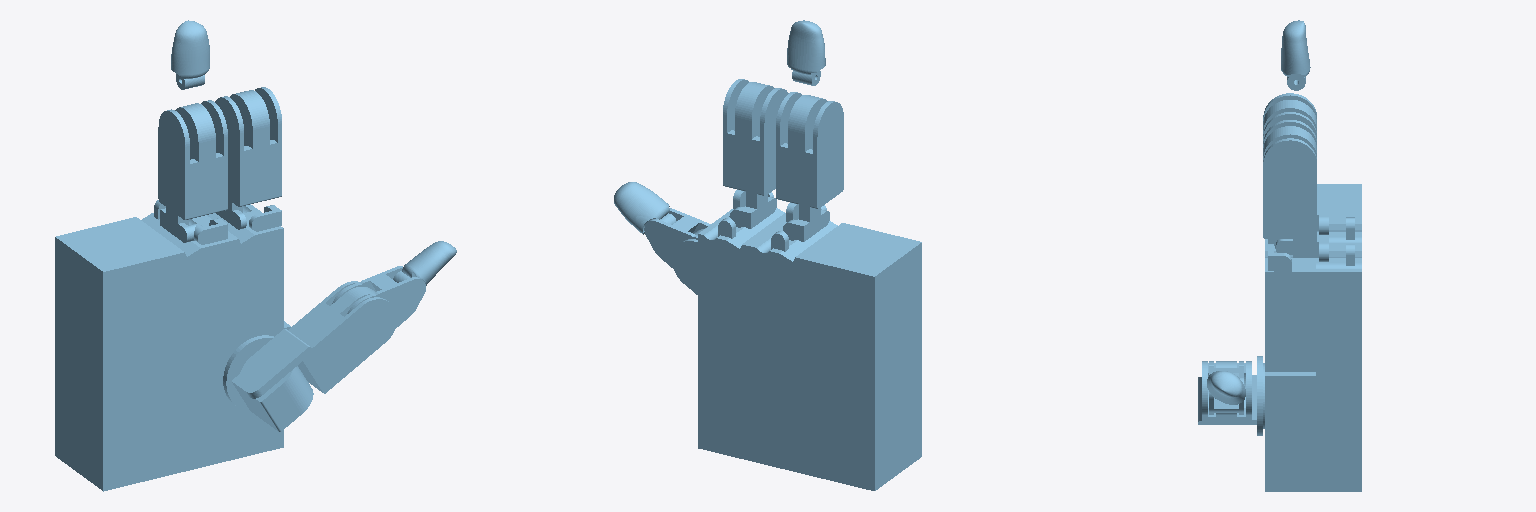
The robot description file, URDF, robot "urdf":
<?xml version="1.0" ?>
<!-- Generated using onshape-to-robot -->
<!-- Onshape https://cad.onshape.com/documents/c4a331975ceab76e0154d26e/w/8313aa8a760c81e1d8a5ecf2/e/5863435791bcbea3db96a3b3 -->
<robot name="urdf">
  <!-- Link base_link -->
  <link name="base_link">
    <inertial>
      <origin xyz="0.021259 0.00162789 0.06324" rpy="0 0 0"/>
      <mass value="0.477"/>
      <inertia ixx="0.000319567" ixy="3.609e-05" ixz="3.5241e-05" iyy="0.000400699" iyz="1.0929e-05" izz="0.000240603"/>
    </inertial>
    <!-- Part base_link -->
    <visual>
      <origin xyz="0.00375 -0.0205 0.0142" rpy="0 -0 0"/>
      <geometry>
        <mesh filename="package://assets/base_link.stl"/>
      </geometry>
      <material name="base_link_material">
        <color rgba="0.615686 0.811765 0.929412 1"/>
      </material>
    </visual>
    <collision>
      <origin xyz="0.00375 -0.0205 0.0142" rpy="0 -0 0"/>
      <geometry>
        <mesh filename="package://assets/base_link.stl"/>
      </geometry>
    </collision>
  </link>
  <!-- Link link_0_0 -->
  <link name="link_0_0">
    <inertial>
      <origin xyz="-0.001543 -0.002416 0.014255" rpy="0 0 0"/>
      <mass value="0.082"/>
      <inertia ixx="2.72479e-05" ixy="-6.7033e-07" ixz="-1.34272e-06" iyy="2.88476e-05" iyz="3.47887e-06" izz="1.22001e-05"/>
    </inertial>
    <!-- Part link_0_0 -->
    <visual>
      <origin xyz="6.93889e-18 6.93889e-18 4.2928e-19" rpy="-3.14159 1.09747e-16 -2.02138e-17"/>
      <geometry>
        <mesh filename="package://assets/link_0_0.stl"/>
      </geometry>
      <material name="link_0_0_material">
        <color rgba="0.615686 0.811765 0.929412 1"/>
      </material>
    </visual>
    <collision>
      <origin xyz="6.93889e-18 6.93889e-18 4.2928e-19" rpy="-3.14159 1.09747e-16 -2.02138e-17"/>
      <geometry>
        <mesh filename="package://assets/link_0_0.stl"/>
      </geometry>
    </collision>
  </link>
  <!-- Link link_0_1 -->
  <link name="link_0_1">
    <inertial>
      <origin xyz="0.029118 7.5e-05 0.007427" rpy="0 0 0"/>
      <mass value="0.106"/>
      <inertia ixx="1.70346e-05" ixy="2.21067e-07" ixz="3.1805e-05" iyy="0.000140661" iyz="2.25e-09" izz="0.00013189"/>
    </inertial>
    <!-- Part link_0_1 -->
    <visual>
      <origin xyz="6.93889e-18 1.40521e-18 -0.0005" rpy="2.77379e-16 -1.48742e-16 1.01073e-30"/>
      <geometry>
        <mesh filename="package://assets/link_0_1.stl"/>
      </geometry>
      <material name="link_0_1_material">
        <color rgba="0.615686 0.811765 0.929412 1"/>
      </material>
    </visual>
    <collision>
      <origin xyz="6.93889e-18 1.40521e-18 -0.0005" rpy="2.77379e-16 -1.48742e-16 1.01073e-30"/>
      <geometry>
        <mesh filename="package://assets/link_0_1.stl"/>
      </geometry>
    </collision>
  </link>
  <!-- Link link_0_2 -->
  <link name="link_0_2">
    <inertial>
      <origin xyz="-0.00218994 -0.012054 0.00878537" rpy="0 0 0"/>
      <mass value="0.028"/>
      <inertia ixx="1.07246e-05" ixy="-3.76439e-07" ixz="-5.19e-07" iyy="4.51348e-06" iyz="2.855e-06" izz="8.608e-06"/>
    </inertial>
    <!-- Part link_0_2 -->
    <visual>
      <origin xyz="2.42861e-17 6.93889e-17 1.35445e-17" rpy="-3.14159 4.94452e-16 -1.99276e-17"/>
      <geometry>
        <mesh filename="package://assets/link_0_2.stl"/>
      </geometry>
      <material name="link_0_2_material">
        <color rgba="0.615686 0.811765 0.929412 1"/>
      </material>
    </visual>
    <collision>
      <origin xyz="2.42861e-17 6.93889e-17 1.35445e-17" rpy="-3.14159 4.94452e-16 -1.99276e-17"/>
      <geometry>
        <mesh filename="package://assets/link_0_2.stl"/>
      </geometry>
    </collision>
  </link>
  <!-- Link link_0_3 -->
  <link name="link_0_3">
    <inertial>
      <origin xyz="0.000326766 0.0123531 0.00586309" rpy="0 0 0"/>
      <mass value="0.00560575"/>
      <inertia ixx="4.21922e-07" ixy="-4.55982e-09" ixz="2.43902e-08" iyy="1.56867e-07" iyz="-2.7172e-09" izz="3.96964e-07"/>
    </inertial>
    <!-- Part link_0_3 -->
    <visual>
      <origin xyz="0 -2.77556e-17 0.005675" rpy="1.5708 -1.0472 -3.14159"/>
      <geometry>
        <mesh filename="package://assets/link_0_3.stl"/>
      </geometry>
      <material name="link_0_3_material">
        <color rgba="0.615686 0.811765 0.929412 1"/>
      </material>
    </visual>
    <collision>
      <origin xyz="0 -2.77556e-17 0.005675" rpy="1.5708 -1.0472 -3.14159"/>
      <geometry>
        <mesh filename="package://assets/link_0_3.stl"/>
      </geometry>
    </collision>
  </link>
  <!-- Joint from link_0_2 to link_0_3 -->
  <joint name="l02_l03" type="revolute">
    <origin xyz="-0.00286105 -0.0259416 0.0138" rpy="3.14159 -3.61383e-16 -1.99276e-17"/>
    <parent link="link_0_2"/>
    <child link="link_0_3"/>
    <axis xyz="0 0 1"/>
    <limit effort="0.294" velocity="3.03" lower="-1.12574" upper="0.314159"/>
  </joint>
  <!-- Joint from link_0_1 to link_0_2 -->
  <joint name="l01_l02" type="revolute">
    <origin xyz="0.0525 -0.007975 0.01" rpy="-1.5708 1.5708 0"/>
    <parent link="link_0_1"/>
    <child link="link_0_2"/>
    <axis xyz="0 0 1"/>
    <limit effort="0.63" velocity="3.99" lower="-0.122173" upper="1.5708"/>
  </joint>
  <!-- Joint from link_0_0 to link_0_1 -->
  <joint name="l00_l01" type="revolute">
    <origin xyz="0 -0.0089 0.0168" rpy="1.5708 4.15415e-15 -3.14159"/>
    <parent link="link_0_0"/>
    <child link="link_0_1"/>
    <axis xyz="0 0 1"/>
    <limit effort="0.84" velocity="3.9" lower="0" upper="0.872665"/>
  </joint>
  <!-- Joint from base_link to link_0_0 -->
  <joint name="base_l00" type="revolute">
    <origin xyz="0.03375 -0.0235 0.0422" rpy="-1.5708 0.523599 3.14159"/>
    <parent link="base_link"/>
    <child link="link_0_0"/>
    <axis xyz="0 0 1"/>
    <limit effort="1.2" velocity="14.4" lower="-0" upper="1.0472"/>
  </joint>
  <!-- Link link_1_0 -->
  <link name="link_1_0">
    <inertial>
      <origin xyz="-0.000569061 1.39263e-09 -0.00382169" rpy="0 0 0"/>
      <mass value="0.000444156"/>
      <inertia ixx="3.63064e-09" ixy="3.51984e-14" ixz="-2.89127e-10" iyy="3.99893e-09" iyz="3.15095e-14" izz="3.51668e-09"/>
    </inertial>
    <!-- Part link_1_0 -->
    <visual>
      <origin xyz="6.93889e-18 -1.38778e-17 -0.0045" rpy="-1.5708 -0 -8.48597e-32"/>
      <geometry>
        <mesh filename="package://assets/link_1_0.stl"/>
      </geometry>
      <material name="link_1_0_material">
        <color rgba="0.615686 0.811765 0.929412 1"/>
      </material>
    </visual>
    <collision>
      <origin xyz="6.93889e-18 -1.38778e-17 -0.0045" rpy="-1.5708 -0 -8.48597e-32"/>
      <geometry>
        <mesh filename="package://assets/link_1_0.stl"/>
      </geometry>
    </collision>
  </link>
  <!-- Link link_1_1 -->
  <link name="link_1_1">
    <inertial>
      <origin xyz="0.02282 -0.005828 0.003515" rpy="0 0 0"/>
      <mass value="0.122"/>
      <inertia ixx="2.1124e-05" ixy="8.513e-06" ixz="1.192e-05" iyy="0.000117779" iyz="1.857e-06" izz="0.000126497"/>
    </inertial>
    <!-- Part link_1_1 -->
    <visual>
      <origin xyz="0 -8.84082e-19 0" rpy="7.41426e-17 -4.30211e-16 0"/>
      <geometry>
        <mesh filename="package://assets/link_1_1.stl"/>
      </geometry>
      <material name="link_1_1_material">
        <color rgba="0.615686 0.811765 0.929412 1"/>
      </material>
    </visual>
    <collision>
      <origin xyz="0 -8.84082e-19 0" rpy="7.41426e-17 -4.30211e-16 0"/>
      <geometry>
        <mesh filename="package://assets/link_1_1.stl"/>
      </geometry>
    </collision>
  </link>
  <!-- Link link_2_2 -->
  <link name="link_2_2">
    <inertial>
      <origin xyz="-0.00218994 -0.0120538 0.00878537" rpy="0 0 0"/>
      <mass value="0.028"/>
      <inertia ixx="1.07246e-05" ixy="-1.082e-06" ixz="-5.19e-07" iyy="4.51348e-06" iyz="2.855e-06" izz="8.608e-06"/>
    </inertial>
    <!-- Part link_2_2 -->
    <visual>
      <origin xyz="4.27361e-20 5.55112e-17 1.38778e-17" rpy="-3.14159 4.94452e-16 0"/>
      <geometry>
        <mesh filename="package://assets/link_2_2.stl"/>
      </geometry>
      <material name="link_2_2_material">
        <color rgba="0.615686 0.811765 0.929412 1"/>
      </material>
    </visual>
    <collision>
      <origin xyz="4.27361e-20 5.55112e-17 1.38778e-17" rpy="-3.14159 4.94452e-16 0"/>
      <geometry>
        <mesh filename="package://assets/link_2_2.stl"/>
      </geometry>
    </collision>
  </link>
  <!-- Link link_1_3 -->
  <link name="link_1_3">
    <inertial>
      <origin xyz="0.000385337 0.0124193 0.0056766" rpy="0 0 0"/>
      <mass value="0.00555944"/>
      <inertia ixx="4.30668e-07" ixy="-4.92784e-09" ixz="1.09255e-11" iyy="1.53773e-07" iyz="3.07582e-11" izz="3.79104e-07"/>
    </inertial>
    <!-- Part link_1_3 -->
    <visual>
      <origin xyz="-1.31308e-17 -5.55112e-17 0.005675" rpy="-1.5708 -1.5708 0"/>
      <geometry>
        <mesh filename="package://assets/link_1_3.stl"/>
      </geometry>
      <material name="link_1_3_material">
        <color rgba="0.615686 0.811765 0.929412 1"/>
      </material>
    </visual>
    <collision>
      <origin xyz="-1.31308e-17 -5.55112e-17 0.005675" rpy="-1.5708 -1.5708 0"/>
      <geometry>
        <mesh filename="package://assets/link_1_3.stl"/>
      </geometry>
    </collision>
  </link>
  <!-- Joint from link_2_2 to link_1_3 -->
  <joint name="l12_l13" type="revolute">
    <origin xyz="-0.00286105 -0.0259416 0.0138" rpy="3.14159 -3.61383e-16 9.86076e-31"/>
    <parent link="link_2_2"/>
    <child link="link_1_3"/>
    <axis xyz="0 0 1"/>
    <limit effort="0.294" velocity="3.03" lower="-1.12574" upper="0.314159"/>
  </joint>
  <!-- Joint from link_1_1 to link_2_2 -->
  <joint name="l11_l12" type="revolute">
    <origin xyz="0.0498893 -0.00311071 -0.003685" rpy="-8.07095e-16 6.36698e-16 1.5708"/>
    <parent link="link_1_1"/>
    <child link="link_2_2"/>
    <axis xyz="0 0 1"/>
    <limit effort="0.63" velocity="3.99" lower="-0.122173" upper="1.5708"/>
  </joint>
  <!-- Joint from link_1_0 to link_1_1 -->
  <joint name="l10_l11" type="revolute">
    <origin xyz="-0.00429 -1.38778e-17 -0.0045" rpy="1.5708 1.18329e-30 1.5708"/>
    <parent link="link_1_0"/>
    <child link="link_1_1"/>
    <axis xyz="0 0 1"/>
    <limit effort="1.2" velocity="14.4" lower="0" upper="1.5708"/>
  </joint>
  <!-- Joint from base_link to link_1_0 -->
  <joint name="base_l10" type="revolute">
    <origin xyz="0.03561 -0.0185 0.1167" rpy="1.5708 -6.10623e-16 -8.76176e-16"/>
    <parent link="base_link"/>
    <child link="link_1_0"/>
    <axis xyz="0 0 1"/>
    <limit effort="0.84" velocity="3.9" lower="-0.349066" upper="0.349066"/>
  </joint>
  <!-- Link link_2_0 -->
  <link name="link_2_0">
    <inertial>
      <origin xyz="-0.000569061 1.39263e-09 -0.00382169" rpy="0 0 0"/>
      <mass value="0.000444156"/>
      <inertia ixx="3.63064e-09" ixy="3.51984e-14" ixz="-2.89127e-10" iyy="3.99893e-09" iyz="3.15095e-14" izz="3.51668e-09"/>
    </inertial>
    <!-- Part link_2_0 -->
    <visual>
      <origin xyz="0 -2.77556e-17 -0.0045" rpy="-1.5708 9.86076e-32 -9.86693e-32"/>
      <geometry>
        <mesh filename="package://assets/link_2_0.stl"/>
      </geometry>
      <material name="link_2_0_material">
        <color rgba="0.615686 0.811765 0.929412 1"/>
      </material>
    </visual>
    <collision>
      <origin xyz="0 -2.77556e-17 -0.0045" rpy="-1.5708 9.86076e-32 -9.86693e-32"/>
      <geometry>
        <mesh filename="package://assets/link_2_0.stl"/>
      </geometry>
    </collision>
  </link>
  <!-- Link link_2_1 -->
  <link name="link_2_1">
    <inertial>
      <origin xyz="0.005828 0.02282 0.003515" rpy="0 0 0"/>
      <mass value="0.122"/>
      <inertia ixx="0.000117779" ixy="-8.513e-06" ixz="-1.857e-06" iyy="2.1124e-05" iyz="1.192e-05" izz="0.000126497"/>
    </inertial>
    <!-- Part link_2_1 -->
    <visual>
      <origin xyz="-9.3127e-20 0 0" rpy="1.35375e-16 -4.23273e-16 1.5708"/>
      <geometry>
        <mesh filename="package://assets/link_2_1.stl"/>
      </geometry>
      <material name="link_2_1_material">
        <color rgba="0.615686 0.811765 0.929412 1"/>
      </material>
    </visual>
    <collision>
      <origin xyz="-9.3127e-20 0 0" rpy="1.35375e-16 -4.23273e-16 1.5708"/>
      <geometry>
        <mesh filename="package://assets/link_2_1.stl"/>
      </geometry>
    </collision>
  </link>
  <!-- Link link_2_2_2 -->
  <link name="link_2_2_2">
    <inertial>
      <origin xyz="-0.00218994 -0.0120538 0.00878537" rpy="0 0 0"/>
      <mass value="0.028"/>
      <inertia ixx="1.07246e-05" ixy="-1.082e-06" ixz="-5.19e-07" iyy="4.51348e-06" iyz="2.855e-06" izz="8.608e-06"/>
    </inertial>
    <!-- Part link_2_2_2 -->
    <visual>
      <origin xyz="8.1462e-19 5.55112e-17 1.19262e-17" rpy="-3.14159 4.94452e-16 1.97215e-31"/>
      <geometry>
        <mesh filename="package://assets/link_2_2.stl"/>
      </geometry>
      <material name="link_2_2_2_material">
        <color rgba="0.615686 0.811765 0.929412 1"/>
      </material>
    </visual>
    <collision>
      <origin xyz="8.1462e-19 5.55112e-17 1.19262e-17" rpy="-3.14159 4.94452e-16 1.97215e-31"/>
      <geometry>
        <mesh filename="package://assets/link_2_2.stl"/>
      </geometry>
    </collision>
  </link>
  <!-- Link link_2_3 -->
  <link name="link_2_3">
    <inertial>
      <origin xyz="0.000385337 0.0124193 0.0056766" rpy="0 0 0"/>
      <mass value="0.00555944"/>
      <inertia ixx="4.30668e-07" ixy="-4.92784e-09" ixz="1.09255e-11" iyy="1.53773e-07" iyz="3.07582e-11" izz="3.79104e-07"/>
    </inertial>
    <!-- Part link_2_3 -->
    <visual>
      <origin xyz="-1.4927e-17 2.498e-16 0.005675" rpy="-1.5708 -1.5708 0"/>
      <geometry>
        <mesh filename="package://assets/link_2_3.stl"/>
      </geometry>
      <material name="link_2_3_material">
        <color rgba="0.615686 0.811765 0.929412 1"/>
      </material>
    </visual>
    <collision>
      <origin xyz="-1.4927e-17 2.498e-16 0.005675" rpy="-1.5708 -1.5708 0"/>
      <geometry>
        <mesh filename="package://assets/link_2_3.stl"/>
      </geometry>
    </collision>
  </link>
  <!-- Joint from link_2_2_2 to link_2_3 -->
  <joint name="l22_l23" type="revolute">
    <origin xyz="-0.00286105 -0.0259416 0.0138" rpy="3.14159 -3.61383e-16 9.86076e-31"/>
    <parent link="link_2_2_2"/>
    <child link="link_2_3"/>
    <axis xyz="0 0 1"/>
    <limit effort="0.294" velocity="3.03" lower="-1.12574" upper="0.314159"/>
  </joint>
  <!-- Joint from link_2_1 to link_2_2_2 -->
  <joint name="l21_l22" type="revolute">
    <origin xyz="0.00311071 0.0498893 -0.003685" rpy="-1.06771e-15 2.42399e-16 -3.14159"/>
    <parent link="link_2_1"/>
    <child link="link_2_2_2"/>
    <axis xyz="0 0 1"/>
    <limit effort="0.63" velocity="3.99" lower="-0.122173" upper="1.5708"/>
  </joint>
  <!-- Joint from link_2_0 to link_2_1 -->
  <joint name="l20_l21" type="revolute">
    <origin xyz="-0.00429 -1.38778e-17 -0.0045" rpy="9.86693e-32 1.5708 0"/>
    <parent link="link_2_0"/>
    <child link="link_2_1"/>
    <axis xyz="0 0 1"/>
    <limit effort="1.2" velocity="14.4" lower="0" upper="1.5708"/>
  </joint>
  <!-- Joint from base_link to link_2_0 -->
  <joint name="base_l20" type="revolute">
    <origin xyz="0.00661 -0.0185 0.1167" rpy="1.5708 -5.75928e-16 -8.40082e-16"/>
    <parent link="base_link"/>
    <child link="link_2_0"/>
    <axis xyz="0 0 1"/>
    <limit effort="0.84" velocity="3.9" lower="-0.349066" upper="0.349066"/>
  </joint>
</robot>

--- Facts derived from the render (not from the file) ---
Views: 3 orthographic renders of the robot side by side, from view 1: azimuth 30°, elevation 25°; view 2: azimuth 150°, elevation 25°; view 3: azimuth 270°, elevation 25°.
Robot: urdf — 13 links, 12 joints (12 revolute); root link base_link; default pose: all joints at 0.
Links seen in each view (by area): view 1: base_link, link_0_1, link_2_1, link_1_1, link_0_0, link_2_3, link_0_2, link_0_3; view 2: base_link, link_2_1, link_1_1, link_2_3, link_0_3, link_0_2, link_0_1; view 3: base_link, link_1_1, link_2_1, link_2_3, link_0_1, link_0_0, link_0_3, link_0_2.
Link boxes in pixels (left/top/right/bottom): base_link: left=55, top=200, right=290, bottom=491; link_0_1: left=235, top=281, right=396, bottom=398; link_2_1: left=158, top=100, right=227, bottom=242; link_1_1: left=215, top=87, right=281, bottom=229; link_0_0: left=223, top=335, right=313, bottom=431; link_2_3: left=171, top=20, right=209, bottom=89; link_0_2: left=332, top=266, right=425, bottom=327; link_0_3: left=393, top=241, right=456, bottom=285; base_link: left=698, top=190, right=921, bottom=490; link_2_1: left=776, top=92, right=843, bottom=241; link_1_1: left=723, top=79, right=788, bottom=228; link_2_3: left=787, top=20, right=825, bottom=85; link_0_3: left=614, top=182, right=676, bottom=234; link_0_2: left=644, top=208, right=710, bottom=267; link_0_1: left=672, top=228, right=705, bottom=294; base_link: left=1263, top=184, right=1361, bottom=491; link_1_1: left=1263, top=120, right=1328, bottom=261; link_2_1: left=1263, top=93, right=1328, bottom=234; link_2_3: left=1281, top=20, right=1310, bottom=90; link_0_1: left=1202, top=361, right=1251, bottom=421; link_0_0: left=1198, top=356, right=1262, bottom=435; link_0_3: left=1207, top=371, right=1245, bottom=404; link_0_2: left=1209, top=361, right=1243, bottom=414.
Bounding box of the posed robot: 0.178 × 0.0763 × 0.2209 m (x, y, z).
Meshes: 12 distinct files referenced, 9 mesh visuals loaded (9 binary STL); not drawn: 4 (reference not matched to a file when rendering).
